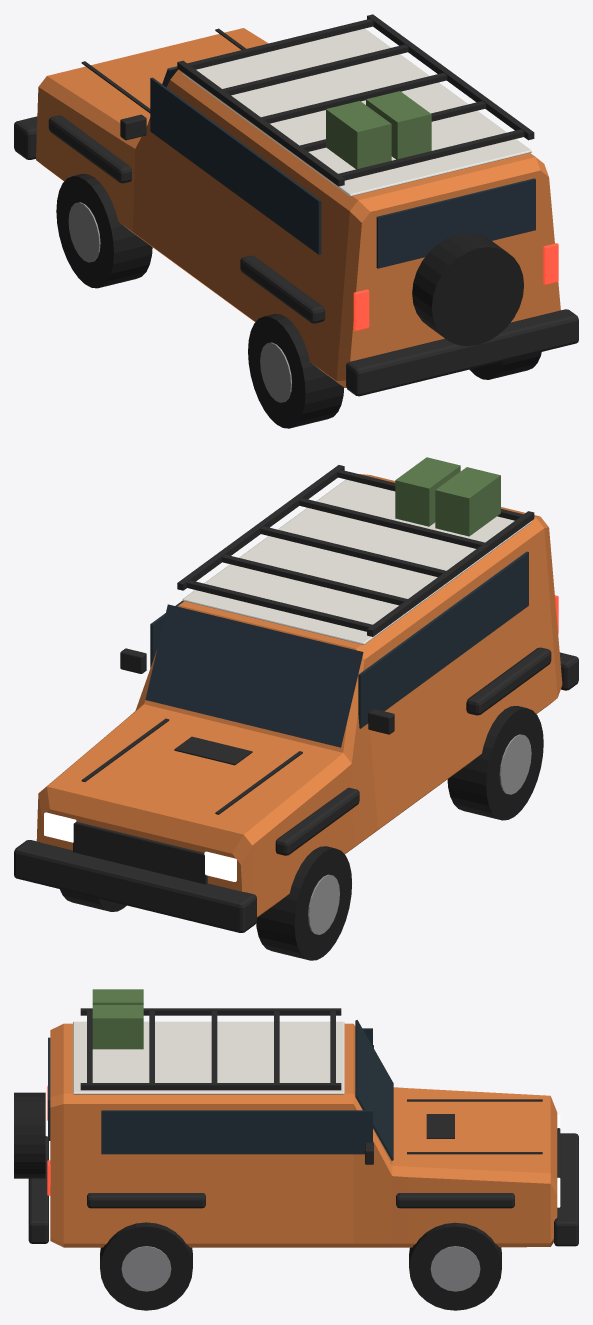
Rendered from fuoristrada.glb.
3 renders of one model, top to bottom at view 1: azimuth 30°, elevation 25°; view 2: azimuth 150°, elevation 25°; view 3: azimuth 270°, elevation 25°, orthographic. The views are drawn at different scales.
Parts seen in each view (by area): view 1: HERO_body, HERO_roofpanel, HERO_sidewin_L, HERO_spare, HERO_bumper_rear, HERO_rearwin, HERO_wheel_RL, HERO_wheel_FL, HERO_jerrycan0, HERO_jerrycan1, HERO_rack_railL, HERO_flare_RL (+14 smaller); view 2: HERO_body, HERO_roofpanel, HERO_windshield, HERO_bumper_front, HERO_sidewin_L, HERO_wheel_FL, HERO_wheel_RL, HERO_grille, HERO_jerrycan0, HERO_jerrycan1, HERO_rack_railL, HERO_flare_RL (+13 smaller); view 3: HERO_body, HERO_roofpanel, HERO_sidewin_R, HERO_wheel_RR, HERO_wheel_FR, HERO_windshield, HERO_spare, HERO_bumper_front, HERO_jerrycan1, HERO_rack_railR, HERO_flare_RR, HERO_flare_FR (+11 smaller).
Part boxes in pixels (<box>): HERO_body: <box>36,28,560,387</box>; HERO_roofpanel: <box>182,28,531,196</box>; HERO_sidewin_L: <box>150,77,321,254</box>; HERO_spare: <box>412,232,523,346</box>; HERO_bumper_rear: <box>346,309,578,396</box>; HERO_rearwin: <box>376,178,535,268</box>; HERO_wheel_RL: <box>248,314,344,428</box>; HERO_wheel_FL: <box>56,173,152,288</box>; HERO_jerrycan0: <box>326,101,391,169</box>; HERO_jerrycan1: <box>366,91,431,159</box>; HERO_rack_railL: <box>177,60,344,186</box>; HERO_flare_RL: <box>240,255,325,323</box>; HERO_body: <box>36,474,562,917</box>; HERO_roofpanel: <box>182,479,531,644</box>; HERO_windshield: <box>145,604,363,747</box>; HERO_bumper_front: <box>14,840,256,932</box>; HERO_sidewin_L: <box>358,551,528,728</box>; HERO_wheel_FL: <box>256,846,351,960</box>; HERO_wheel_RL: <box>447,706,543,820</box>; HERO_grille: <box>73,821,207,884</box>; HERO_jerrycan0: <box>435,467,500,536</box>; HERO_jerrycan1: <box>395,457,460,526</box>; HERO_rack_railL: <box>367,511,534,636</box>; HERO_flare_RL: <box>466,647,551,715</box>; HERO_body: <box>50,1023,557,1247</box>; HERO_roofpanel: <box>73,1021,344,1094</box>; HERO_sidewin_R: <box>101,1110,372,1154</box>; HERO_wheel_RR: <box>100,1222,192,1310</box>; HERO_wheel_FR: <box>409,1222,501,1310</box>; HERO_windshield: <box>355,1020,393,1160</box>; HERO_spare: <box>14,1092,45,1178</box>; HERO_bumper_front: <box>554,1133,578,1246</box>; HERO_jerrycan1: <box>92,1005,143,1049</box>; HERO_rack_railR: <box>80,1083,341,1090</box>; HERO_flare_RR: <box>87,1193,205,1208</box>; HERO_flare_FR: <box>396,1193,514,1208</box>.
Size of the model in its own units: 2.22 by 2.4 by 4.99.
